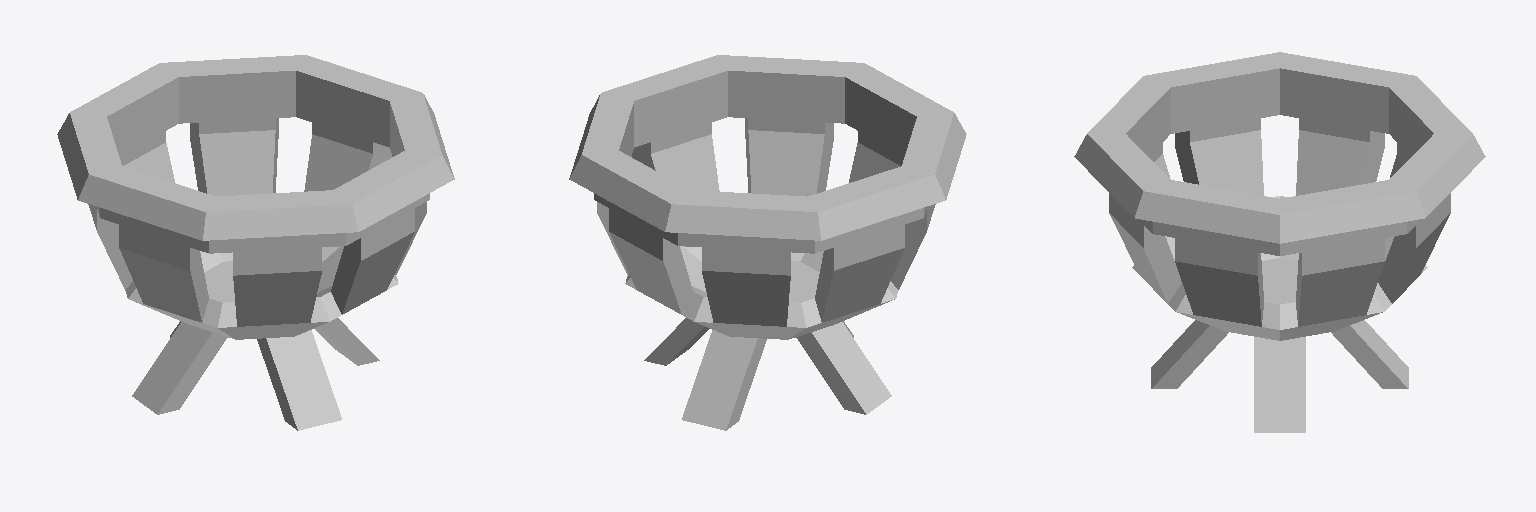
The model's file is prop_floor_brazier.obj.
3 views of the same model, side by side, from view 1: azimuth 30°, elevation 25°; view 2: azimuth 150°, elevation 25°; view 3: azimuth 270°, elevation 25° (orthographic).
Parts seen in each view (by area): view 1: prop_floor_brazier; view 2: prop_floor_brazier; view 3: prop_floor_brazier.
Boxes of the visible parts, x1=… form: prop_floor_brazier: x1=57, y1=55, x2=454, y2=430; prop_floor_brazier: x1=569, y1=55, x2=966, y2=430; prop_floor_brazier: x1=1074, y1=52, x2=1485, y2=432.
Bounding box in the file's own units: 0.8 × 0.525 × 0.8.